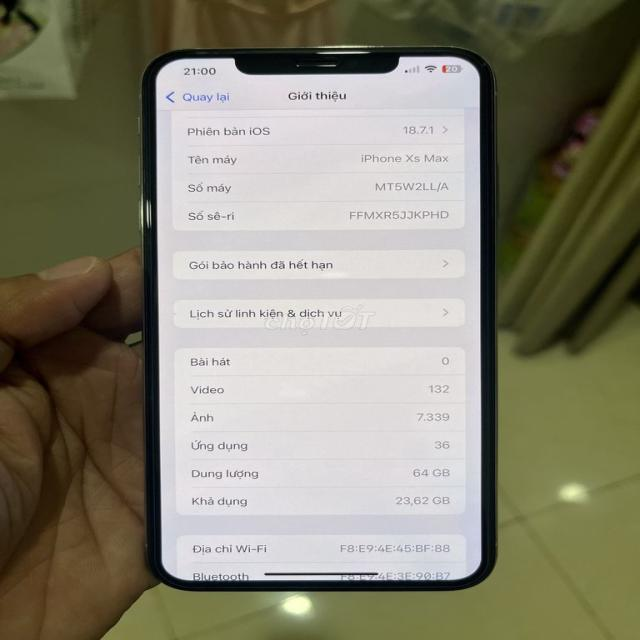gen_x_xs: (132, 30, 513, 600)
